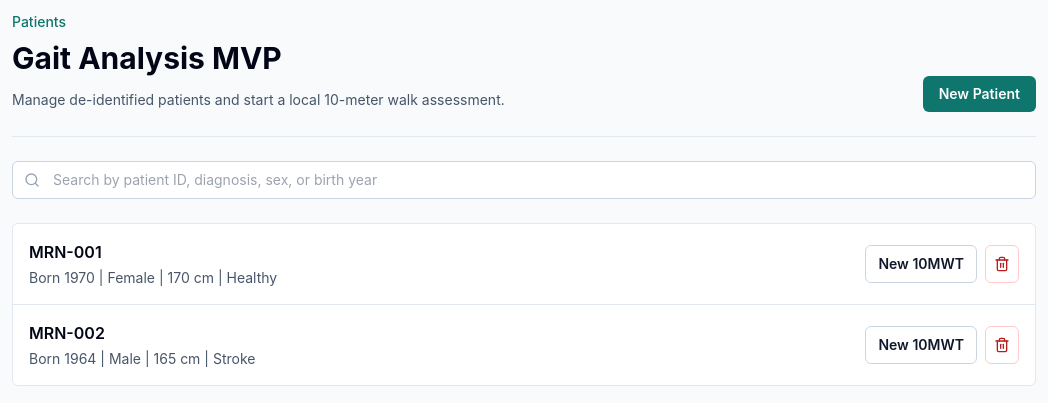
Test: HomePage › lists and searches patients
Expected: the text "MRN-001" is shown, [29,242,102,262]
Expected: the text "MRN-002" is shown, [29,323,105,343]
Type "stroke" into the search field at (524, 180), box [12,161,1036,199]
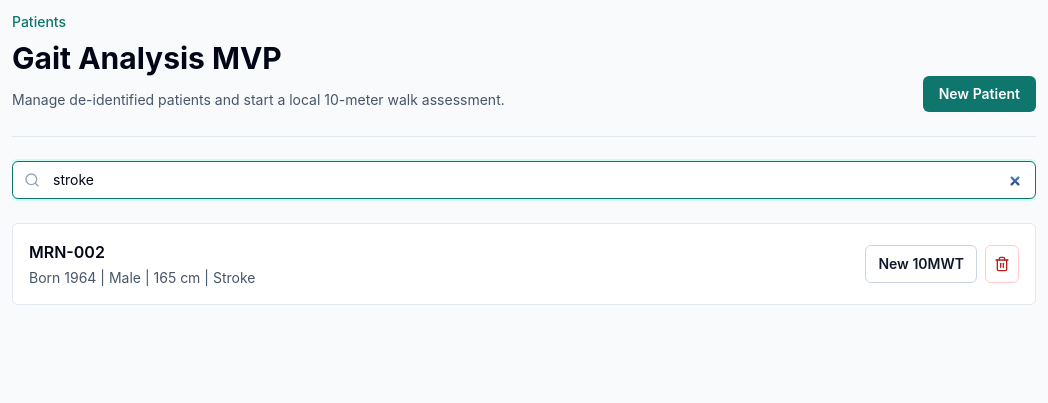
Expected: the text "MRN-002" is shown, [29,242,105,262]
Result: the button "MRN-001" is gone
